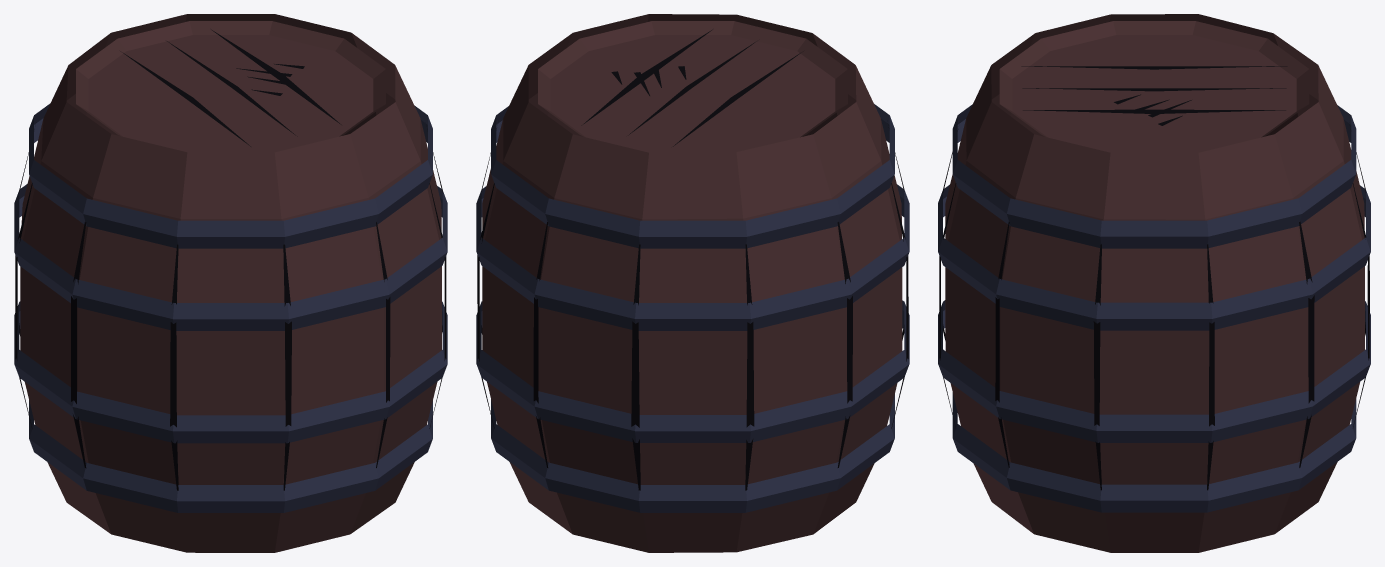
The model's file is barrel_small.glb.
3 renders of one model, left to right at view 1: azimuth 30°, elevation 25°; view 2: azimuth 150°, elevation 25°; view 3: azimuth 270°, elevation 25°, orthographic.
Parts seen in each view (by area): view 1: barrel_small.001; view 2: barrel_small.001; view 3: barrel_small.001.
Part boxes in pixels (x1,y1,x2,y2): barrel_small.001: (14,14,447,552); barrel_small.001: (476,14,909,552); barrel_small.001: (938,14,1370,552).
Size of the model in its own units: 1 by 1.02 by 1.
